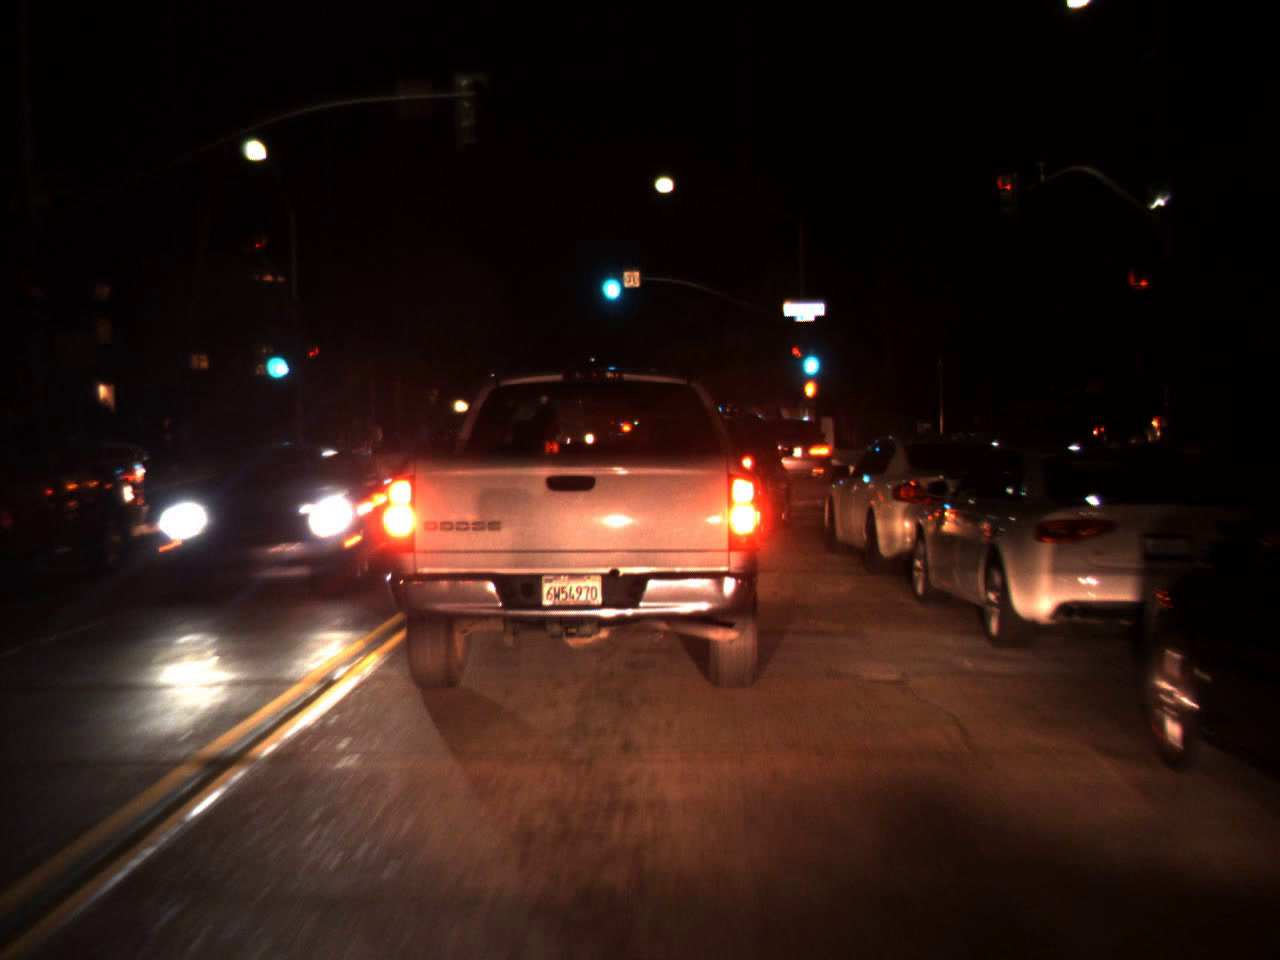go: (259, 329, 291, 386), (594, 251, 624, 308), (797, 331, 822, 382)
